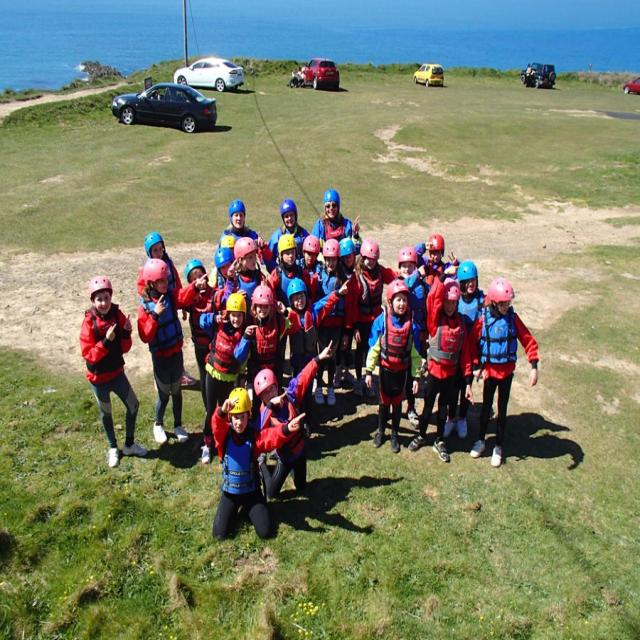body: (209, 384, 308, 542), (250, 336, 336, 502), (468, 276, 540, 470), (406, 264, 475, 464), (136, 256, 208, 446), (78, 273, 148, 468), (272, 275, 351, 444), (198, 290, 261, 467), (363, 276, 423, 455), (183, 256, 242, 434), (136, 229, 198, 389), (441, 259, 486, 439), (351, 236, 401, 396), (233, 282, 304, 388), (393, 245, 432, 432), (268, 232, 312, 396), (312, 237, 347, 408), (332, 235, 368, 390), (232, 235, 278, 326), (217, 198, 273, 265), (309, 188, 363, 256), (412, 233, 463, 294), (266, 198, 311, 266), (294, 233, 326, 306), (208, 246, 237, 308), (218, 233, 238, 284), (286, 64, 310, 89), (525, 62, 536, 87), (151, 87, 165, 101)
